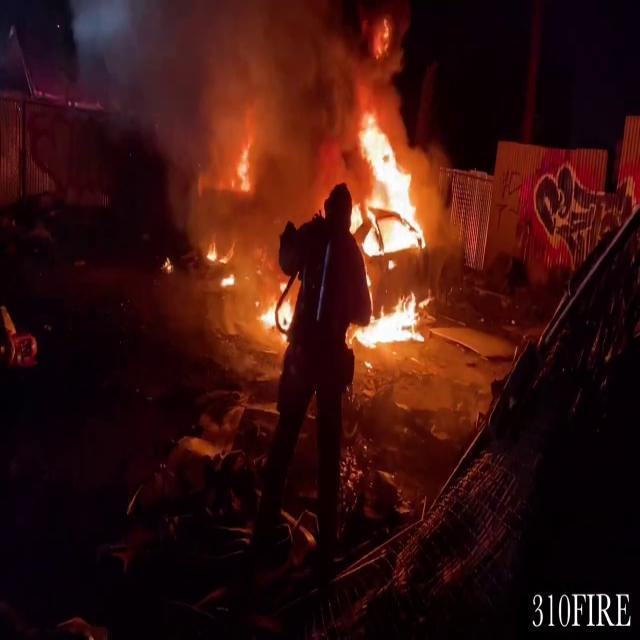Fire: (344, 107, 436, 351), (255, 277, 297, 339)
Smoke: (66, 0, 386, 176)
